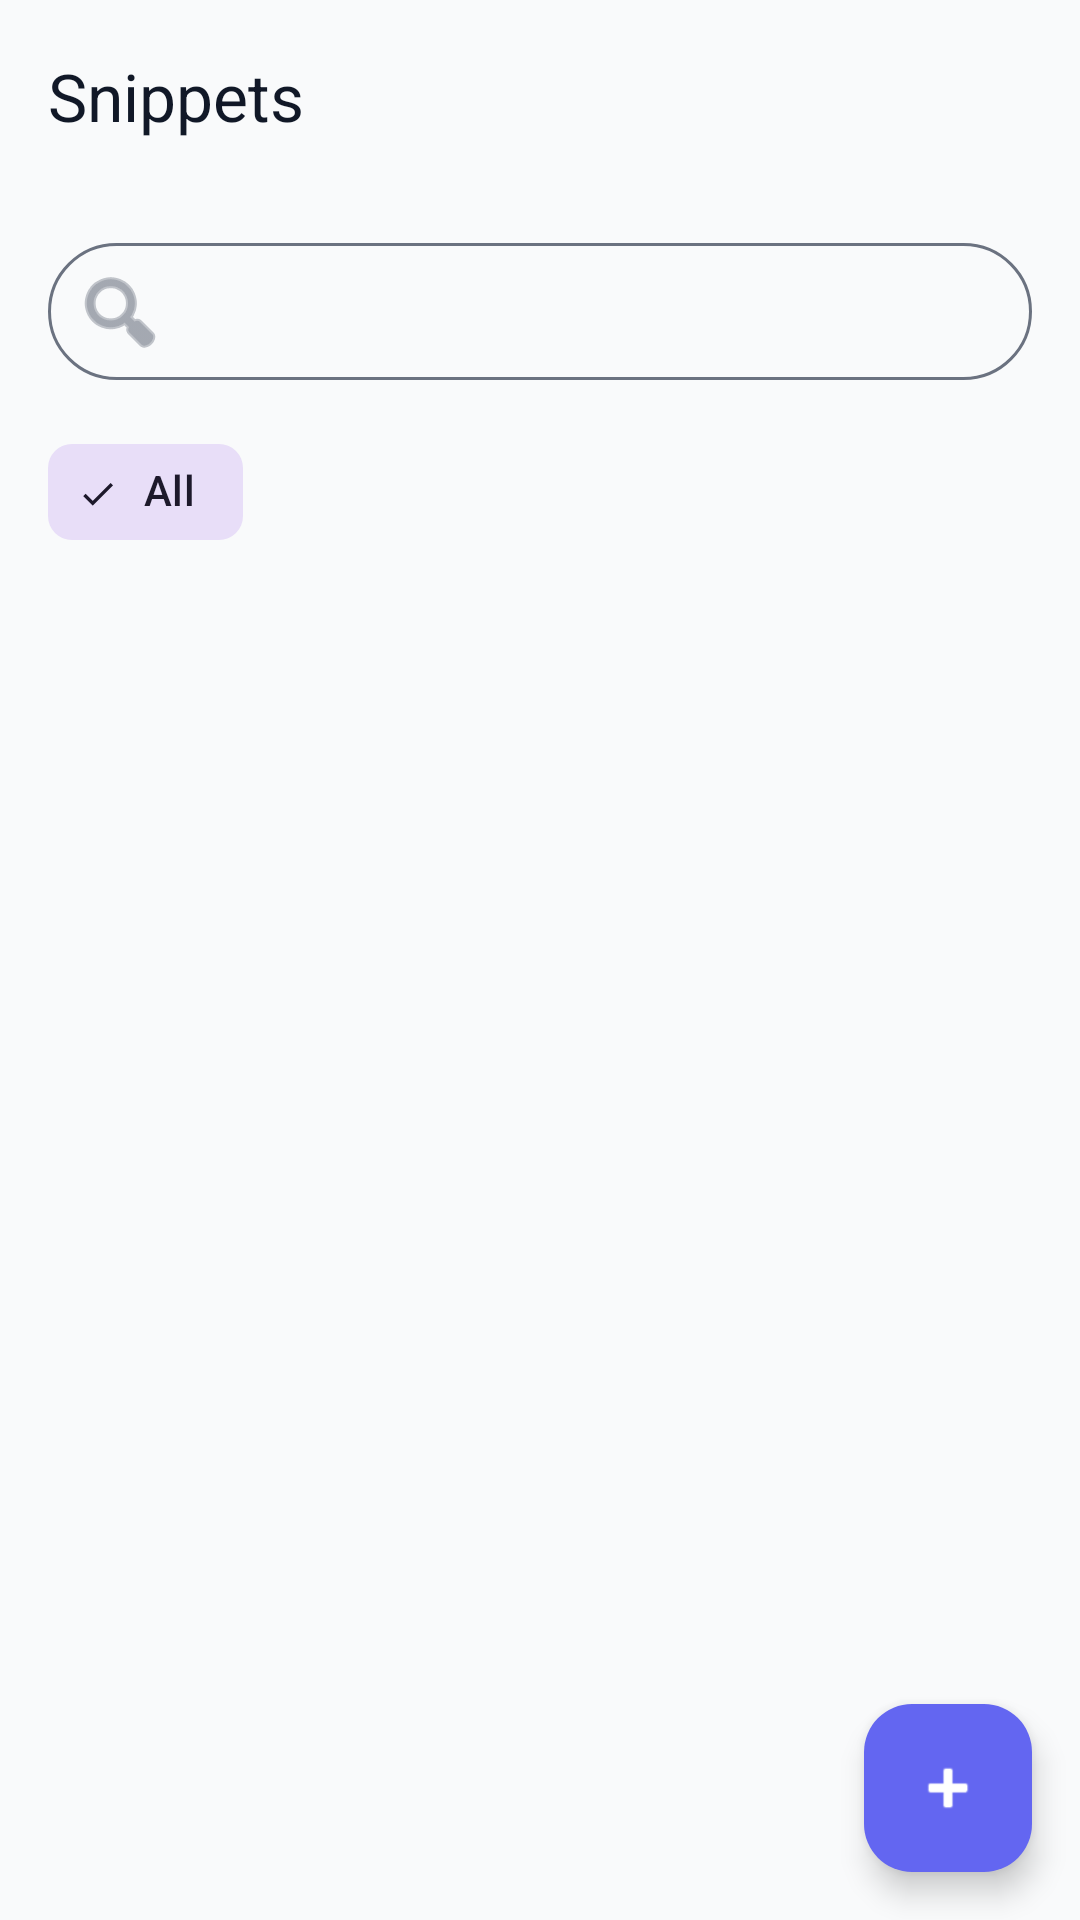

Icon click points for this 1080x1920 phone screenshot, format (x=x, y=y):
Add Snippet: (x=948, y=1788)
